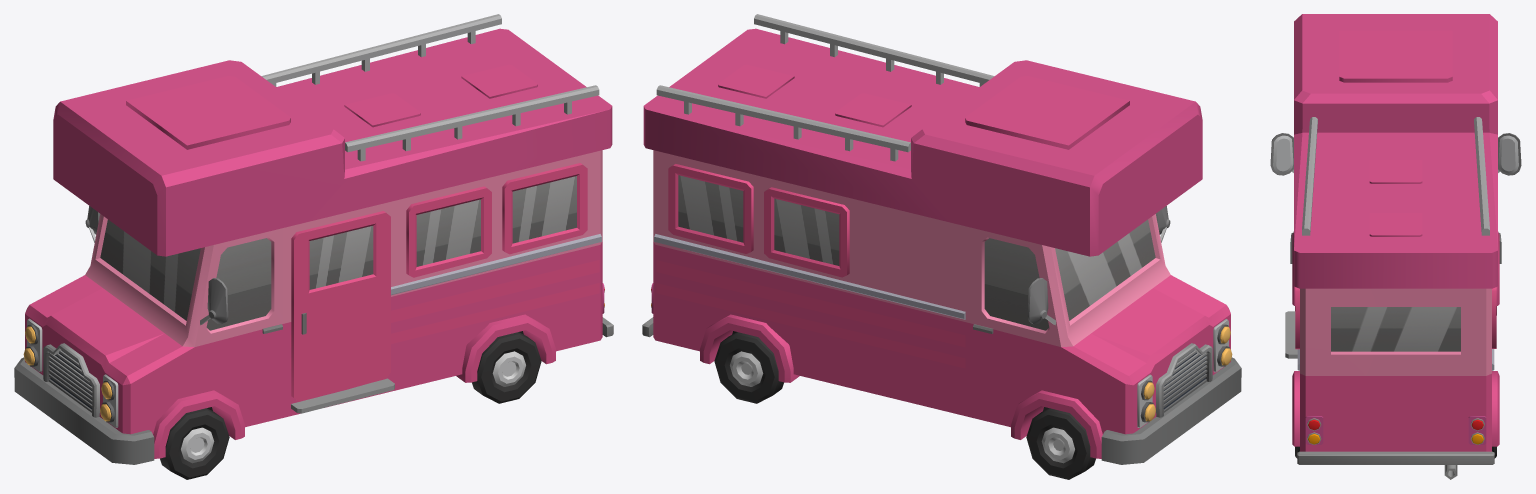
The model's file is RVCar_E.gltf.
3 views of the same model, side by side, from view 1: azimuth 30°, elevation 25°; view 2: azimuth 150°, elevation 25°; view 3: azimuth 270°, elevation 25° (orthographic). The views are drawn at different scales.
Parts seen in each view (by area): view 1: RVCar_E, RL, FL; view 2: RVCar_E, RR, FR; view 3: RVCar_E.
Part boxes in pixels (x1,y1,x2,y2): RVCar_E: [14, 14, 613, 464]; RL: [472, 332, 541, 403]; FL: [160, 408, 229, 479]; RVCar_E: [642, 14, 1241, 464]; RR: [714, 332, 783, 403]; FR: [1026, 408, 1095, 479]; RVCar_E: [1270, 14, 1521, 479].
Bounding box in the file's own units: 4.14 × 2.46 × 1.94.
4 materials, 4 textured.
